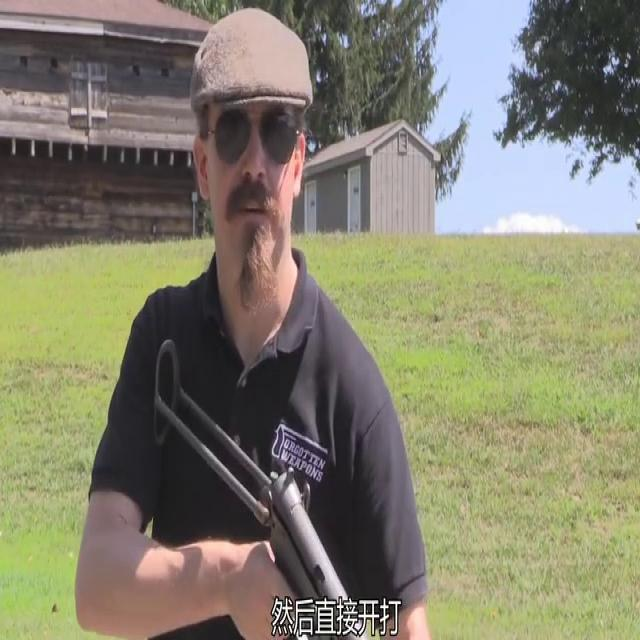gun-knife-thesis - v11 Yolov5 augmented: (131, 322, 450, 638)
